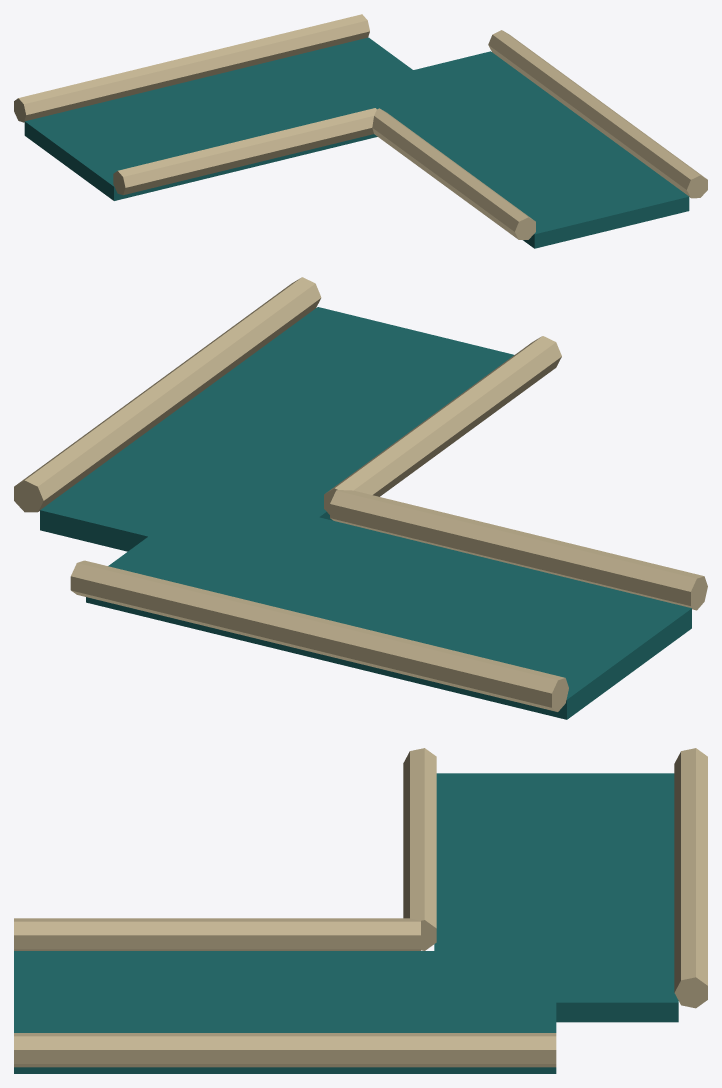
The model's file is route_flow_corner_a.obj.
3 renders of one model, top to bottom at view 1: azimuth 30°, elevation 25°; view 2: azimuth 150°, elevation 25°; view 3: azimuth 270°, elevation 25°, orthographic. The views are drawn at different scales.
Parts seen in each view (by area): view 1: route_z, route_x, route_rib; view 2: route_x, route_rib, route_z; view 3: route_x, route_rib, route_z.
Boxes of the visible parts, x1=… form: route_z: x1=337, y1=51, x2=689, y2=248; route_x: x1=24, y1=37, x2=457, y2=200; route_rib: x1=14, y1=14, x2=707, y2=239; route_x: x1=86, y1=491, x2=691, y2=719; route_rib: x1=14, y1=277, x2=707, y2=711; route_z: x1=40, y1=307, x2=513, y2=551; route_x: x1=434, y1=773, x2=678, y2=1022; route_rib: x1=14, y1=748, x2=707, y2=1067; route_z: x1=14, y1=951, x2=556, y2=1073.
Size of the model in its own units: 2.56 by 0.1834 by 2.56.
